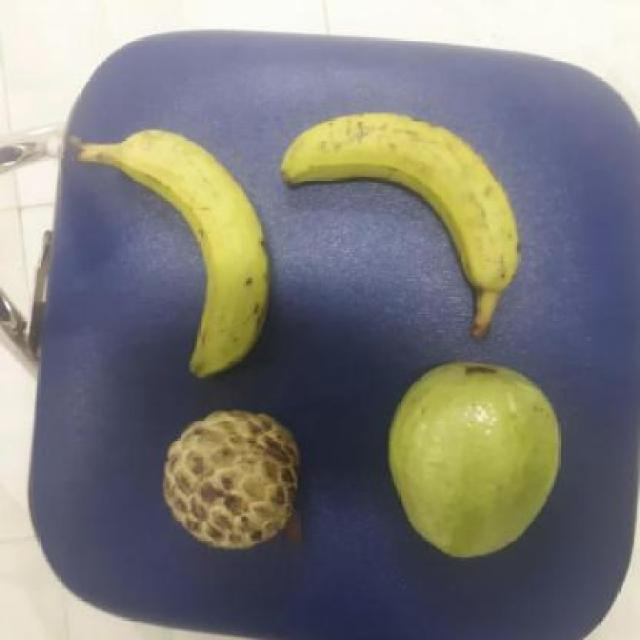banana: (107, 114, 270, 386), (282, 109, 523, 288)
guava: (382, 358, 566, 560)
sugar apple: (161, 402, 302, 556)
